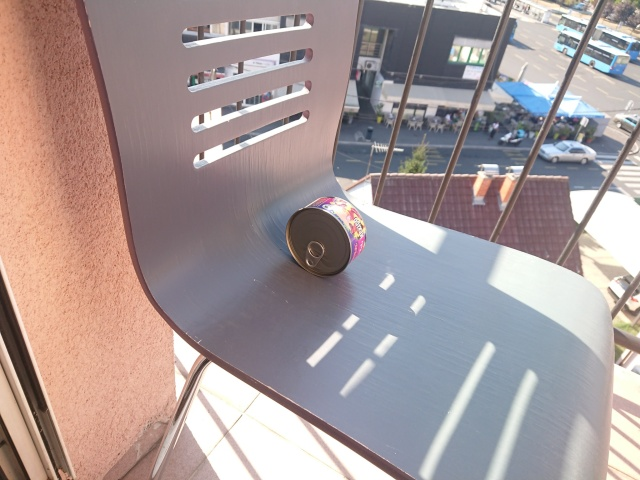Giana Tuna Salad Mexico 185g: (282, 192, 370, 281)
